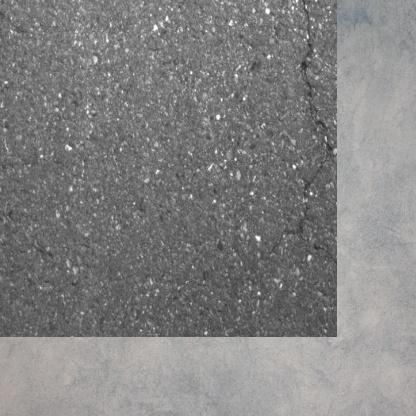Cracks: (248, 0, 312, 248)
